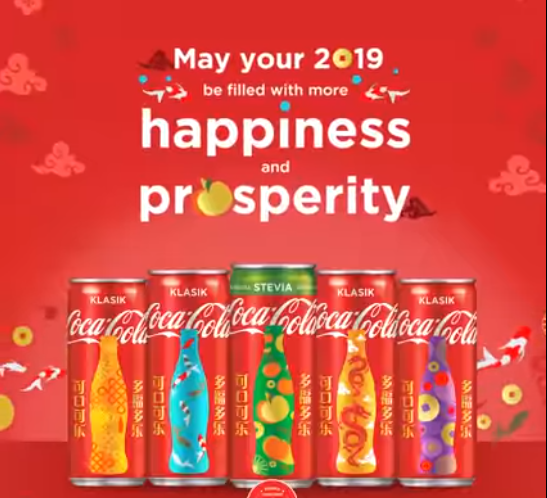cocacola_blue_fish: (147, 269, 227, 488)
cocacola_green_apples: (231, 263, 313, 487)
cocacola_violet_balls: (398, 278, 476, 488)
cocacola_yellow_dragons: (316, 271, 397, 486)
cocacola_yellow_pattern: (71, 278, 144, 487)
